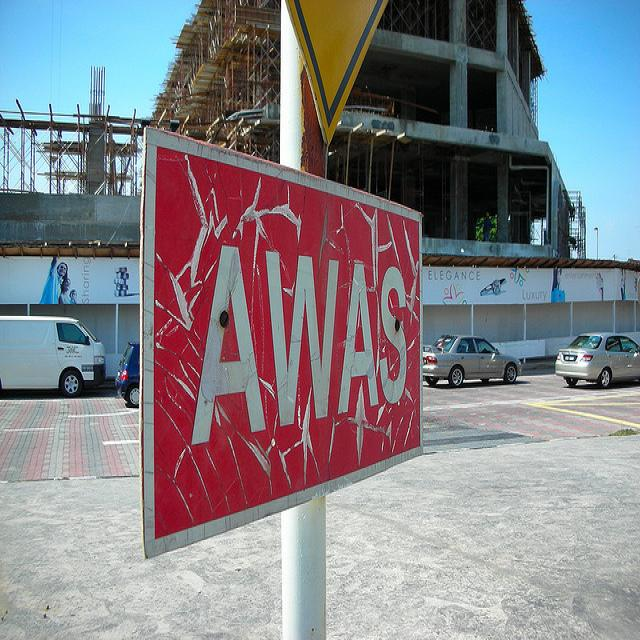Vehicle: (0, 315, 106, 395), (2, 319, 106, 389), (422, 333, 522, 388), (554, 331, 640, 390), (114, 343, 139, 408)
